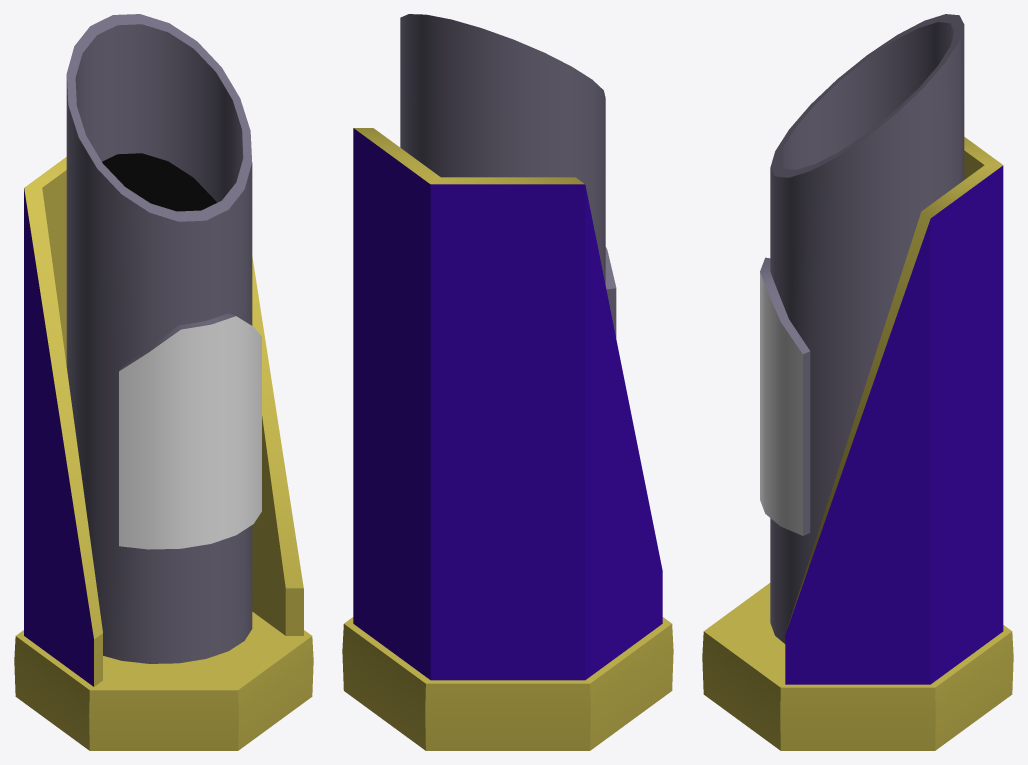
File: Kepler (B).glb
3 renders of one model, left to right at view 1: azimuth 30°, elevation 25°; view 2: azimuth 150°, elevation 25°; view 3: azimuth 270°, elevation 25°, orthographic. The views are drawn at different scales.
Parts seen in each view (by area): view 1: Kepler; view 2: Kepler; view 3: Kepler.
Part boxes in pixels (x1,y1,x2,y2): Kepler: (14, 14, 313, 750); Kepler: (342, 14, 673, 750); Kepler: (702, 14, 1013, 750).
Bounding box in the file's own units: 0.0278 × 0.0762 × 0.0321.
